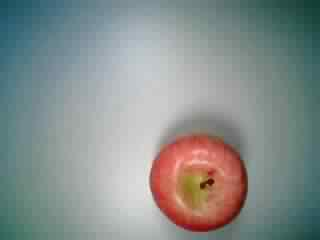apple: (146, 128, 250, 232)
